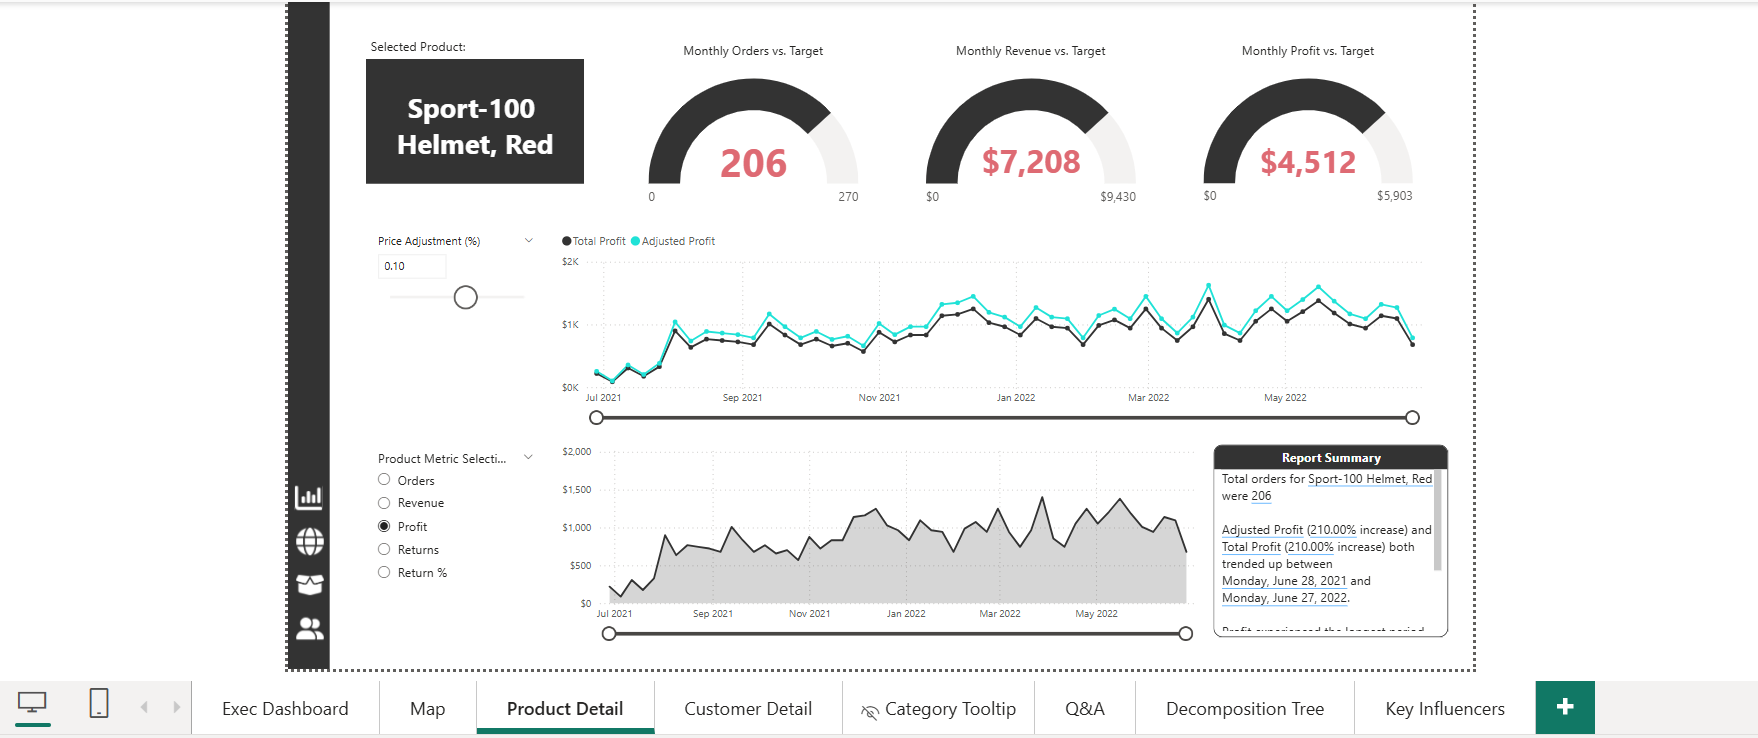

The page's visual inventory and layout, read from the dashboard file:
{"tool":"powerbi","page":{"name":"Product Detail","canvas":[1280,720],"ordinal":2},"visuals":[{"type":"shape","box":[0,0,45,720],"z":0},{"type":"actionButton","box":[2.5,516.7,45.6,37.8],"z":0,"group":"g1"},{"type":"gauge","title":"Monthly Orders vs. Target","fields":{"Y":["Measure Table.Total Orders"],"MaxValue":["Measure Table.Order Target"]},"box":[383.7,41.5,236.9,203.7],"z":1000},{"type":"actionButton","box":[3.3,563.4,45.6,37.8],"z":1000,"group":"g1"},{"type":"gauge","title":"Monthly Revenue vs. Target","fields":{"Y":["Measure Table.Total Revenue"],"MaxValue":["Measure Table.Revenue Target"]},"box":[683.5,41.5,236.9,203.7],"z":2000},{"type":"actionButton","box":[3.3,611.1,45.6,37.8],"z":2000,"group":"g1"},{"type":"gauge","title":"Monthly Profit vs. Target","fields":{"Y":["Measure Table.Total Profit"],"MaxValue":["Measure Table.Profit Target"]},"box":[983.4,41.8,236.2,203.5],"z":3000},{"type":"actionButton","box":[3.3,657.8,45.6,37.8],"z":3000,"group":"g1"},{"type":"lineChart","title":"Profit Trending","fields":{"Category":["Calendar Lookup.Date Hierarchy.Year","Calendar Lookup.Date Hierarchy.Start of Month","Calendar Lookup.Date Hierarchy.Start of Week","Calendar Lookup.Date Hierarchy.Date"],"Y":["Measure Table.Total Profit","Measure Table.Adjusted Profit"]},"box":[290.5,237.4,952.8,221.5],"z":4000},{"type":"areaChart","title":"Return Trending","fields":{"Y":["Measure Table.Total Profit"],"Category":["Calendar Lookup.Date Hierarchy.Year","Calendar Lookup.Date Hierarchy.Start of Month","Calendar Lookup.Date Hierarchy.Start of Week","Calendar Lookup.Date Hierarchy.Date"]},"box":[290.5,471.3,708.7,221.5],"z":5000},{"type":"card","fields":{"Values":["Min(Product Lookup.ProductName)"]},"box":[83.6,61,235.1,134.5],"z":6000},{"type":"textbox","box":[83.6,32.8,136.8,36.2],"z":7000},{"type":"group","id":"g1","title":"Navigation Buttons","box":[2.5,516.7,46.4,178.9],"z":8000},{"type":"slicer","fields":{"Values":["Price Adjustment (%).Price Adjustment (%)"]},"box":[83.6,245.3,193.3,123.2],"z":9000},{"type":"slicer","fields":{"Values":["Product Metric Selection.Product Metric Selection"]},"box":[83.6,477,193.3,180.8],"z":10000},{"type":"textbox","title":"Report Summary","box":[999.2,478.1,253.2,208],"z":11000}]}

Visuals, with their boxes on the page's 1280x720 design canvas (x1, y1, x2, y2). These are canvas units, not pixel positions in the 1758x738 screenshot, which may show the page scaled, cropped or inside an application window:
shape: {"left": 0, "top": 0, "right": 45, "bottom": 720}
actionButton: {"left": 2, "top": 517, "right": 48, "bottom": 554}
"Monthly Orders vs. Target" gauge: {"left": 384, "top": 42, "right": 621, "bottom": 245}
actionButton: {"left": 3, "top": 563, "right": 49, "bottom": 601}
"Monthly Revenue vs. Target" gauge: {"left": 684, "top": 42, "right": 920, "bottom": 245}
actionButton: {"left": 3, "top": 611, "right": 49, "bottom": 649}
"Monthly Profit vs. Target" gauge: {"left": 983, "top": 42, "right": 1220, "bottom": 245}
actionButton: {"left": 3, "top": 658, "right": 49, "bottom": 696}
"Profit Trending" lineChart: {"left": 290, "top": 237, "right": 1243, "bottom": 459}
"Return Trending" areaChart: {"left": 290, "top": 471, "right": 999, "bottom": 693}
card - Min(Product Lookup.ProductName): {"left": 84, "top": 61, "right": 319, "bottom": 196}
textbox: {"left": 84, "top": 33, "right": 220, "bottom": 69}
"Navigation Buttons" group: {"left": 2, "top": 517, "right": 49, "bottom": 696}
slicer - Price Adjustment (%).Price Adjustment (%): {"left": 84, "top": 245, "right": 277, "bottom": 368}
slicer - Product Metric Selection.Product Metric Selection: {"left": 84, "top": 477, "right": 277, "bottom": 658}
"Report Summary" textbox: {"left": 999, "top": 478, "right": 1252, "bottom": 686}
